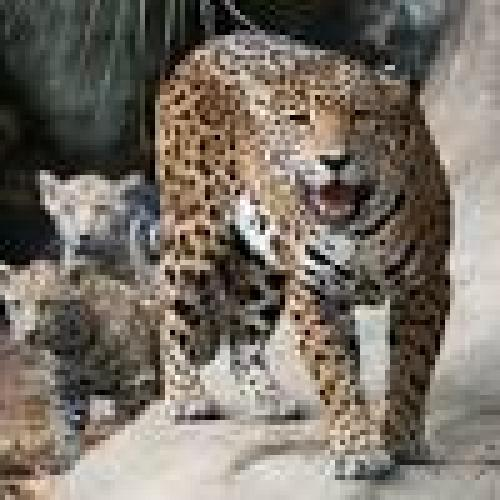jaguar_not-endangered: (167, 34, 455, 479), (0, 265, 160, 455), (32, 169, 163, 276)
